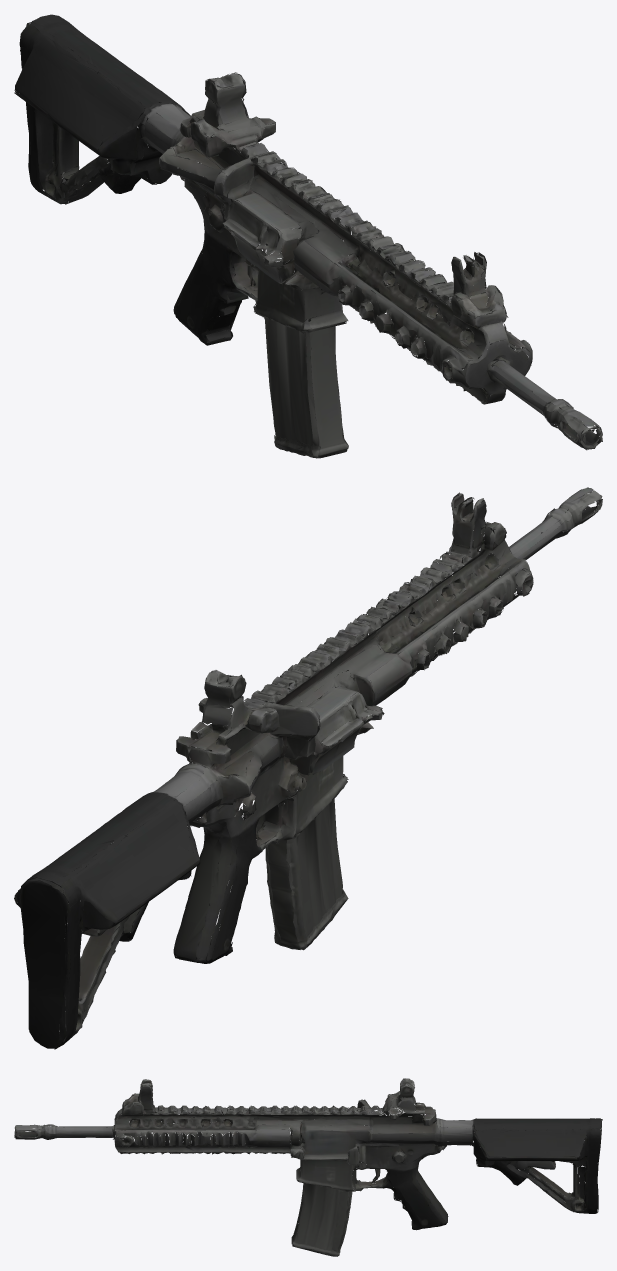
3 renders of one model, top to bottom at view 1: azimuth 30°, elevation 25°; view 2: azimuth 150°, elevation 25°; view 3: azimuth 270°, elevation 25°, orthographic. The views are drawn at different scales.
Visible parts, largest first — view 1: hk416; view 2: hk416; view 3: hk416.
Part boxes in pixels (left/top/right/bottom): hk416: left=14, top=14, right=602, bottom=458; hk416: left=14, top=487, right=602, bottom=1049; hk416: left=14, top=1078, right=602, bottom=1256.
Size of the model in its own units: 0.0971 by 0.271 by 0.84.
Materials: 1 (1 with a texture image).
